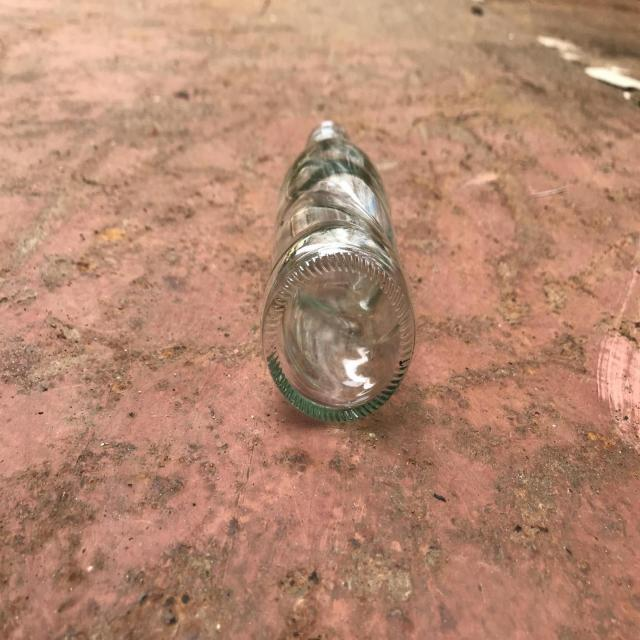glass: (262, 120, 415, 421)
